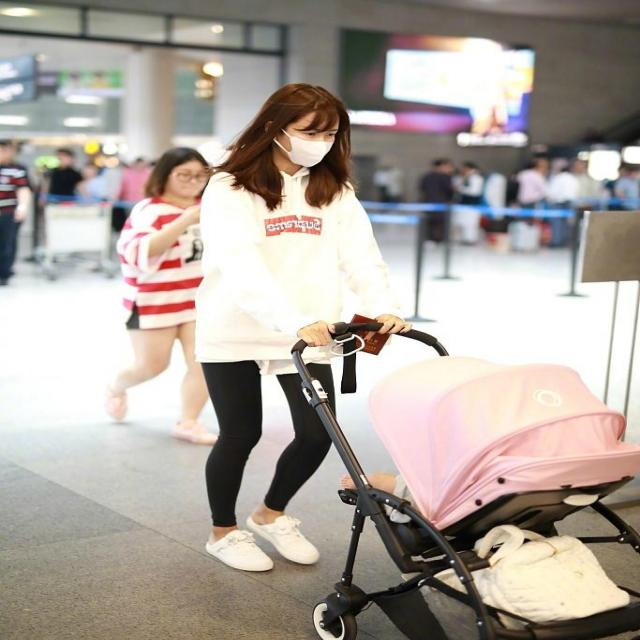mask: (282, 112, 336, 166)
nomask: (168, 160, 205, 197)
